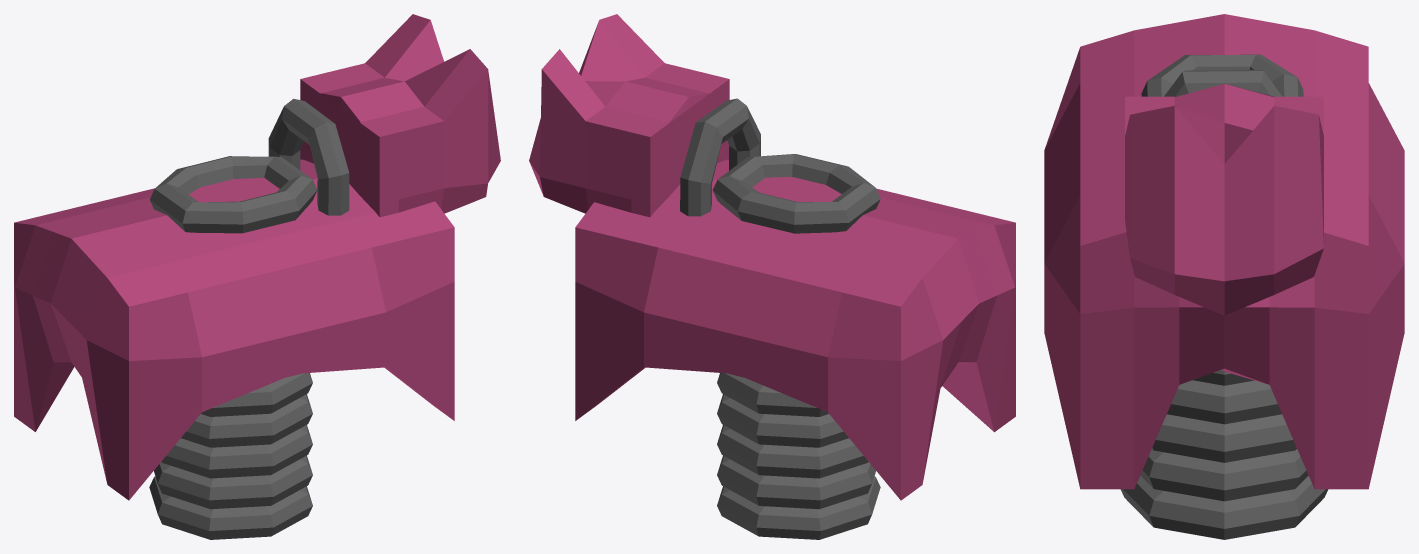
File: ParkSpringToyPinkColoured.fbx
3 renders of one model, left to right at view 1: azimuth 30°, elevation 25°; view 2: azimuth 150°, elevation 25°; view 3: azimuth 270°, elevation 25°, orthographic. The views are drawn at different scales.
Visible parts, largest first — view 1: Cube, Torus.005; view 2: Cube, Torus.005; view 3: Cube, Torus.005.
Boxes of the visible parts, <box> form: Cube: <box>14,14,500,500</box>; Torus.005: <box>149,373,312,539</box>; Cube: <box>529,14,1015,500</box>; Torus.005: <box>717,373,880,539</box>; Cube: <box>1044,14,1404,489</box>; Torus.005: <box>1120,370,1328,539</box>.
Bounding box in the file's own units: 73.29 × 69 × 42.39.
